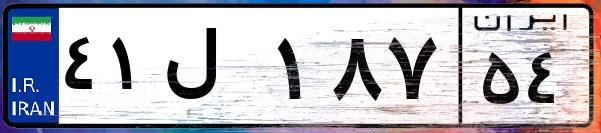1: (270, 28, 330, 110), (110, 28, 158, 98)
4: (57, 26, 110, 100), (525, 38, 570, 115)
5: (475, 38, 525, 113)
7: (385, 28, 445, 110)
8: (330, 28, 385, 110)
ل: (158, 20, 270, 120)
